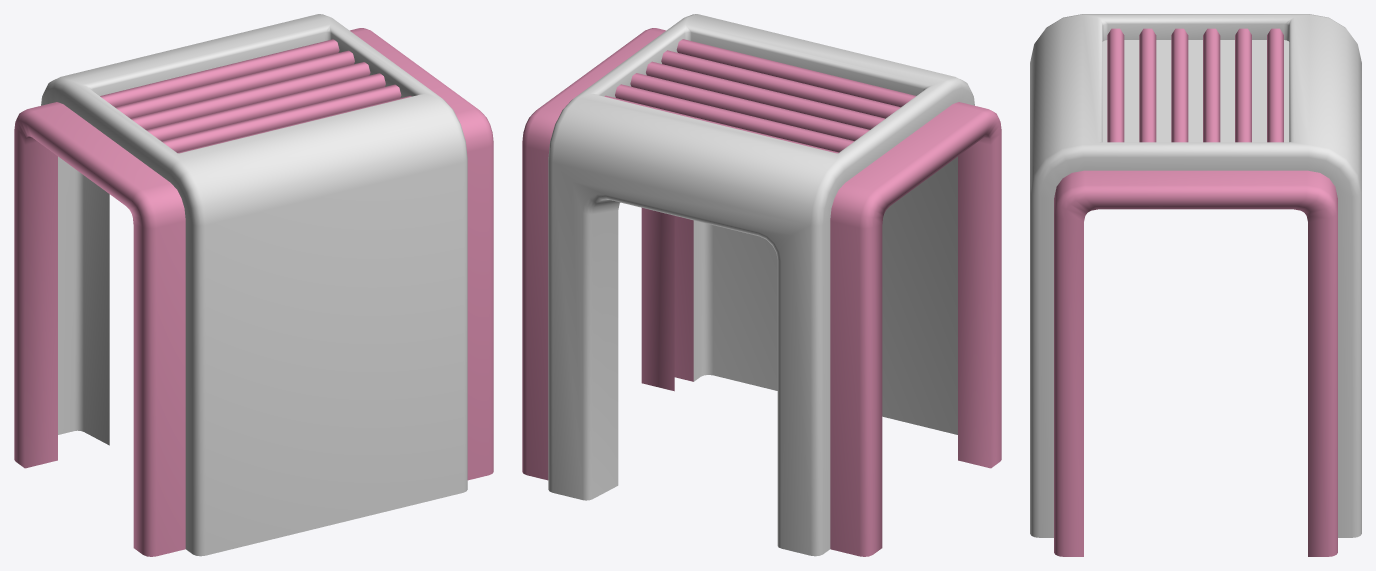
Rendered from conveyor_tube.fbx.
The picture shows the model from 3 angles, left to right: view 1: azimuth 30°, elevation 25°; view 2: azimuth 150°, elevation 25°; view 3: azimuth 270°, elevation 25°; orthographic projection. The views are drawn at different scales.
Parts seen in each view (by area): view 1: conveyor_tube; view 2: conveyor_tube; view 3: conveyor_tube.
Boxes of the visible parts, x1,y1,x2,y2 form: conveyor_tube: (14, 14, 493, 556); conveyor_tube: (522, 14, 1001, 556); conveyor_tube: (1030, 14, 1361, 556).
Size of the model in its own units: 0.4358 by 0.4485 by 0.3466.
